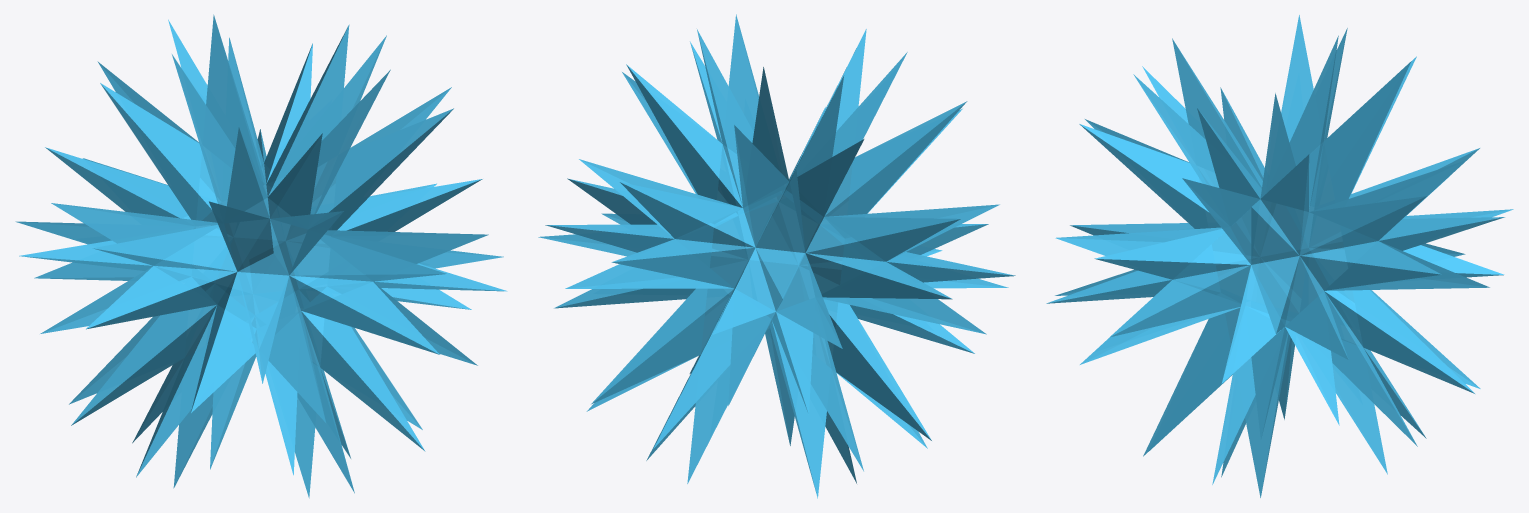
File: echidnahedron.obj
3 views of the same model, side by side, from view 1: azimuth 30°, elevation 25°; view 2: azimuth 150°, elevation 25°; view 3: azimuth 270°, elevation 25° (orthographic). The views are drawn at different scales.
Size of the model in its own units: 2.37 by 2.31 by 2.3.
